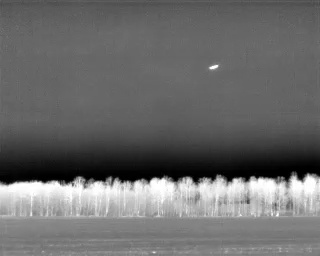DRONE: (206, 60, 223, 75)
